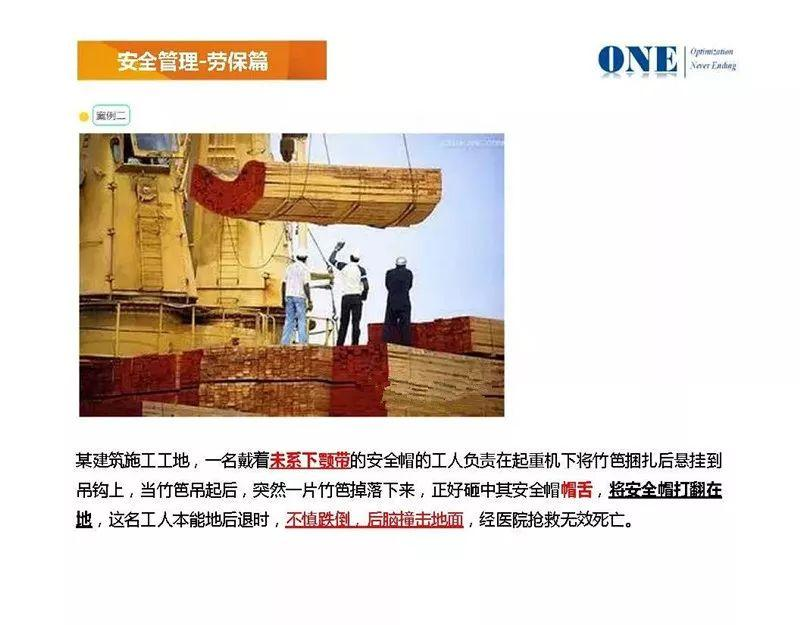helmet: (351, 247, 363, 259), (396, 257, 409, 267), (296, 249, 308, 259)
